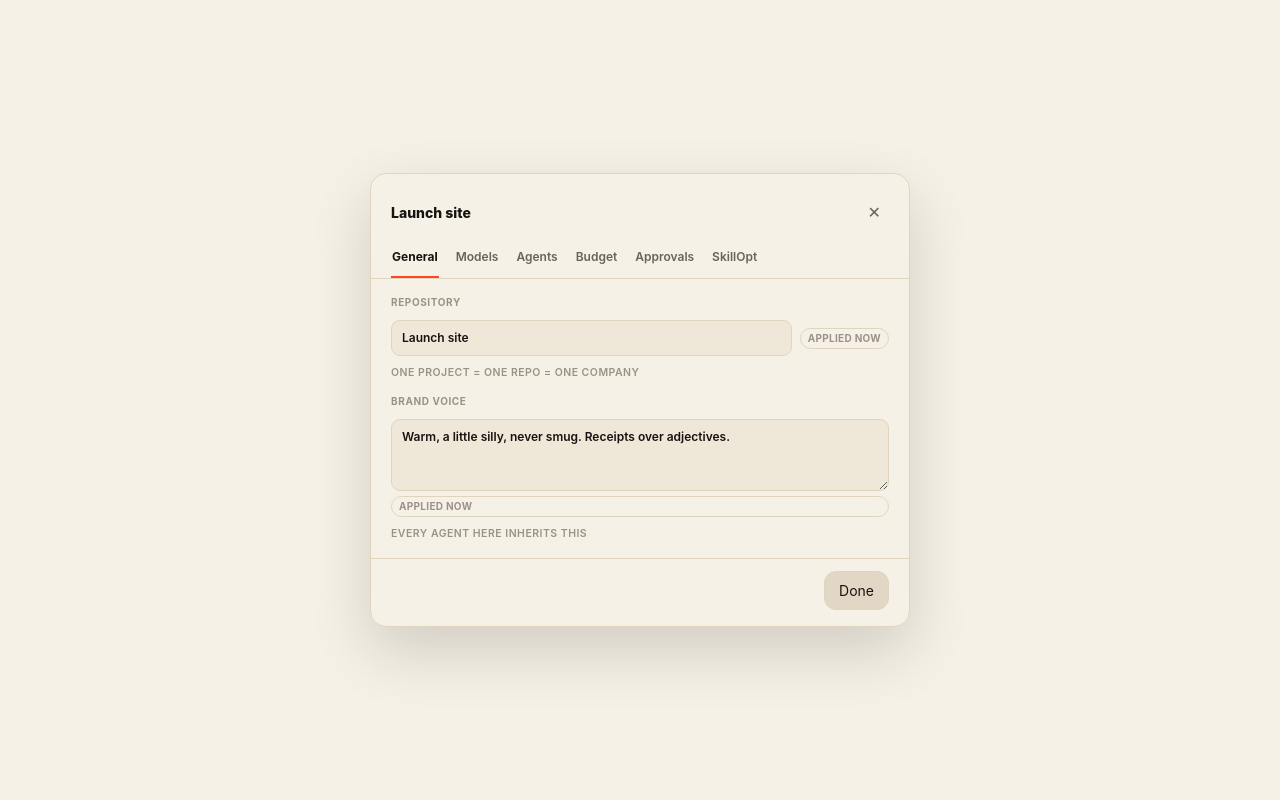
Test: ProjectSettingsSheet (#663) › labels settings that do not apply to the current running process
Click the tab "Models" at point(477, 260), box [455,242,499,278]
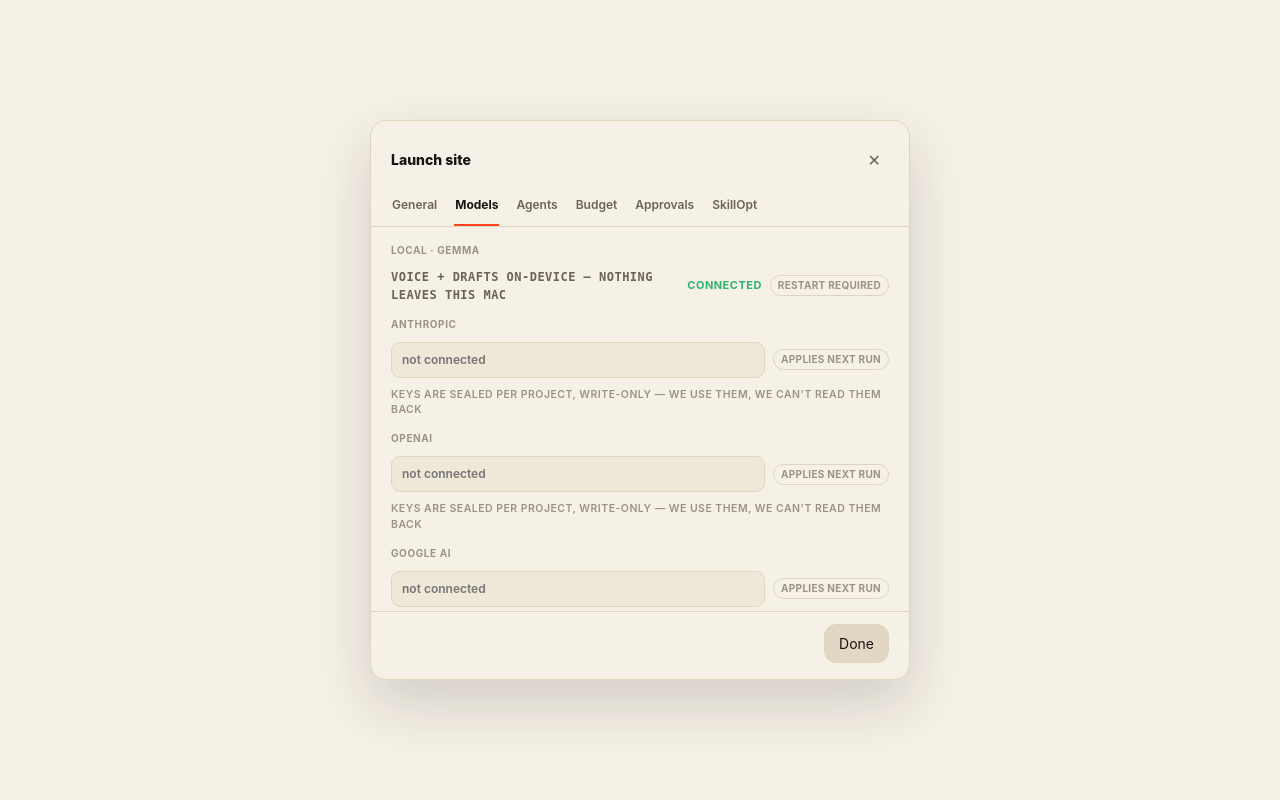
Expected: the text "restart required" is shown, [770,275,889,296]
Expected: the text "applies next run" is shown 3 times, [773,349,889,370]; [773,464,889,485]; [773,578,889,599]
